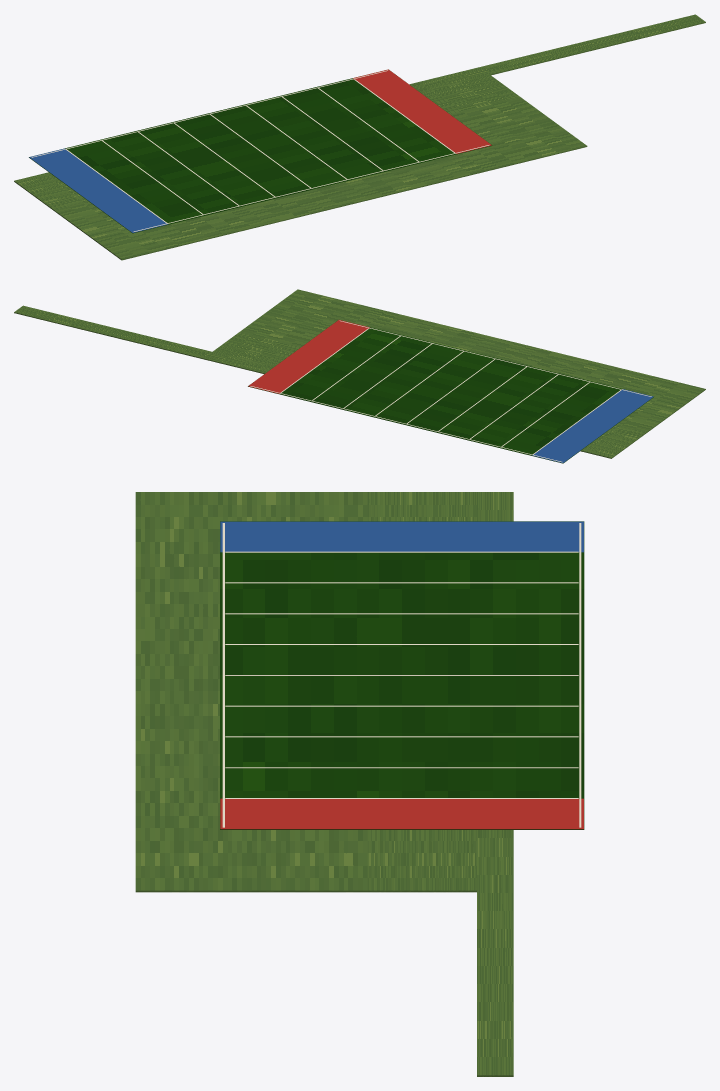
The model's file is structure.glb.
The picture shows the model from 3 angles, top to bottom: view 1: azimuth 30°, elevation 25°; view 2: azimuth 150°, elevation 25°; view 3: azimuth 270°, elevation 25°; orthographic projection. The views are drawn at different scales.
Visible parts, largest first — view 1: Box5, Box4, Box1, Box6, Box7, Box3, Box2, Box17, Box18; view 2: Box5, Box4, Box1, Box6, Box7, Box3, Box2, Box17, Box18; view 3: Box5, Box4, Box7, Box6, Box1, Box3, Box2, Box17, Box18.
Boxes of the visible parts, x1=… form: Box5: x1=29, y1=71, x2=492, y2=233; Box4: x1=55, y1=97, x2=587, y2=260; Box1: x1=14, y1=14, x2=705, y2=188; Box6: x1=29, y1=148, x2=167, y2=232; Box7: x1=353, y1=69, x2=491, y2=153; Box3: x1=34, y1=82, x2=520, y2=211; Box2: x1=24, y1=75, x2=499, y2=196; Box17: x1=31, y1=70, x2=387, y2=157; Box18: x1=133, y1=145, x2=489, y2=231; Box5: x1=248, y1=321, x2=653, y2=463; Box4: x1=240, y1=289, x2=705, y2=431; Box1: x1=14, y1=305, x2=620, y2=458; Box6: x1=532, y1=389, x2=653, y2=462; Box7: x1=248, y1=320, x2=369, y2=393; Box3: x1=222, y1=332, x2=647, y2=445; Box2: x1=212, y1=345, x2=629, y2=451; Box17: x1=250, y1=386, x2=562, y2=462; Box18: x1=339, y1=320, x2=651, y2=396; Box5: x1=220, y1=521, x2=584, y2=829; Box4: x1=135, y1=492, x2=367, y2=892; Box7: x1=220, y1=798, x2=583, y2=829; Box6: x1=220, y1=521, x2=583, y2=552; Box1: x1=477, y1=492, x2=513, y2=1076; Box3: x1=367, y1=492, x2=440, y2=892; Box2: x1=440, y1=492, x2=476, y2=892; Box17: x1=579, y1=523, x2=581, y2=827; Box18: x1=222, y1=523, x2=224, y2=827.
Size of the model in its own units: 75.76 by 0.136 by 24.62.
Materials: 5 (2 with a texture image).
